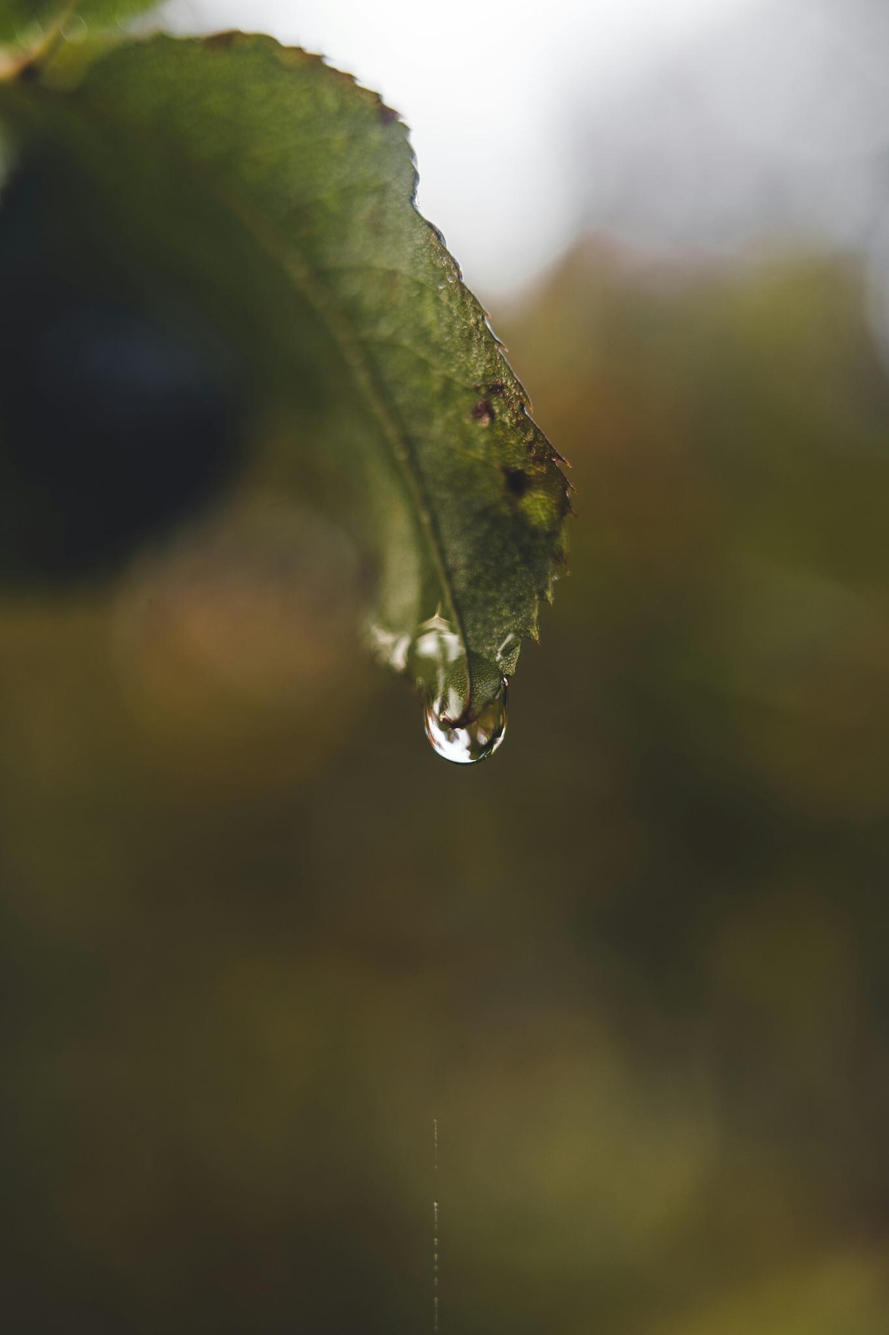water drop: (419, 673, 516, 765)
